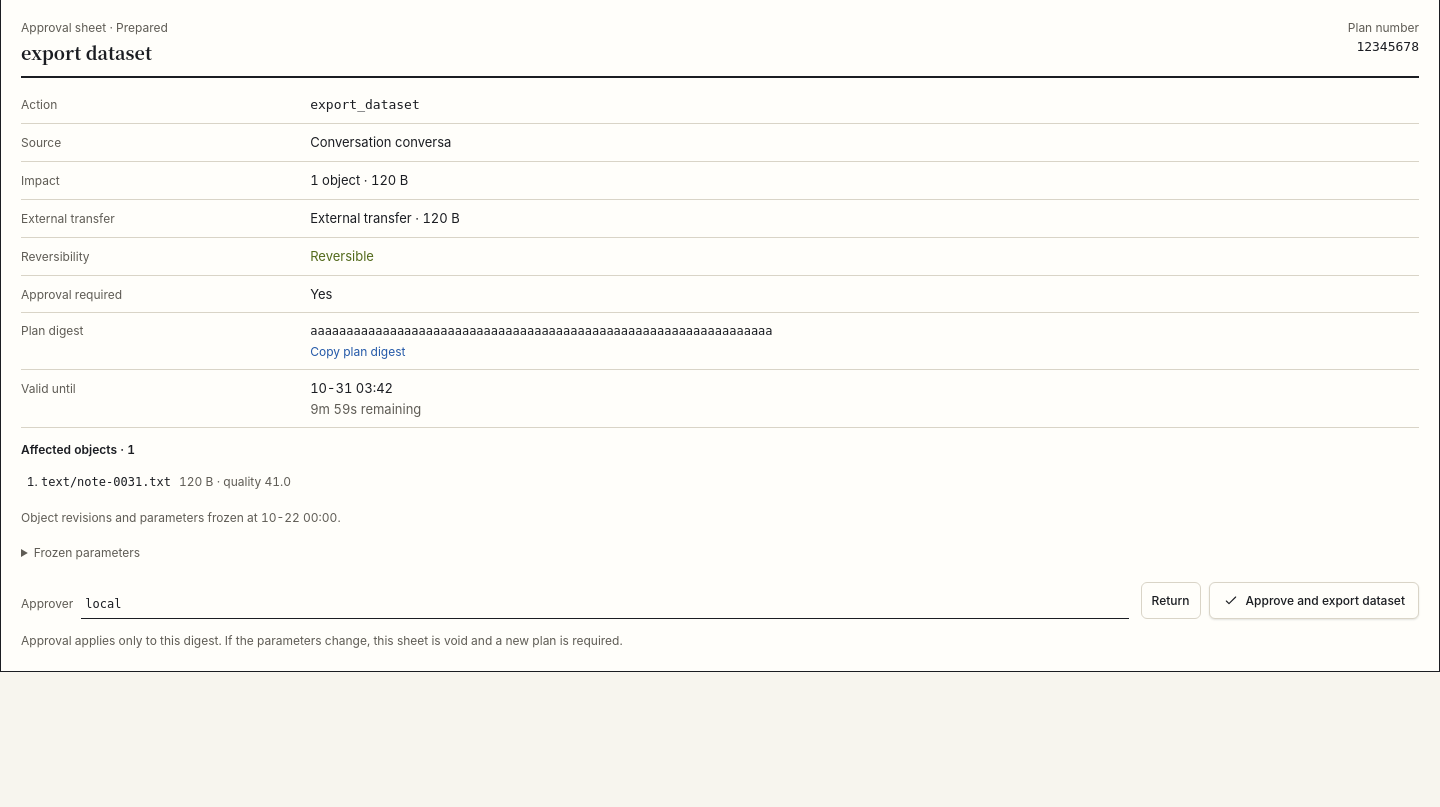
Test: requires approval for a reversible external transfer and refreshes the caller with the real receipt
Expected: the text "External transfer · 120 B" is shown, [310, 210, 460, 226]
Step 1. Click the button "Approve and export dataset" → (1314, 601), box [1208, 582, 1419, 619]
(page scrolled)
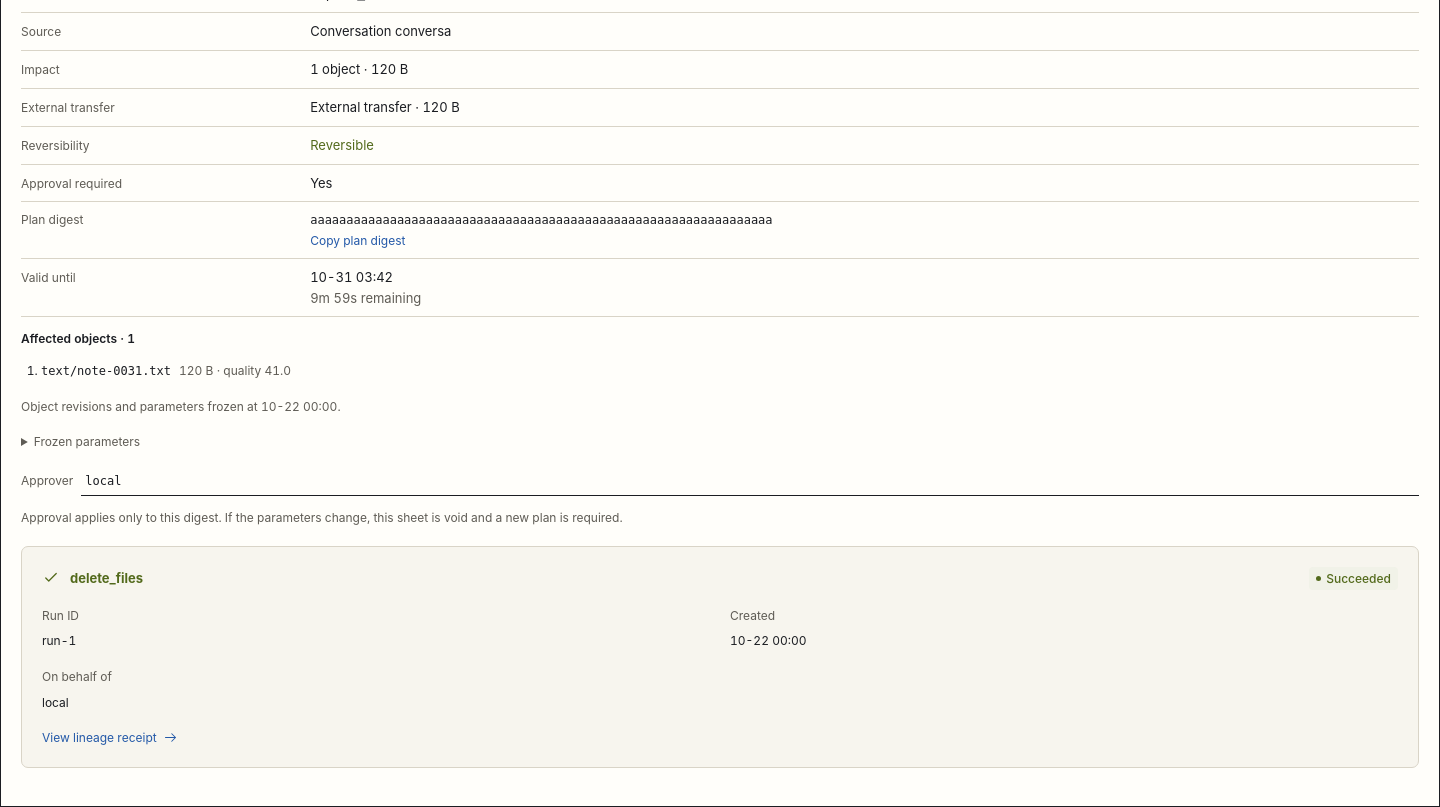
Expected: the element named "Receipt" is shown, [21, 546, 1419, 768]
